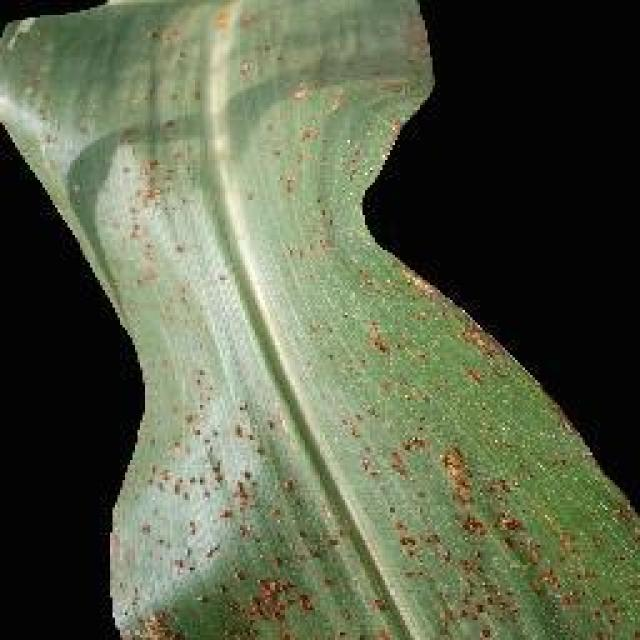Corn Common Rust: (110, 158, 637, 632)
